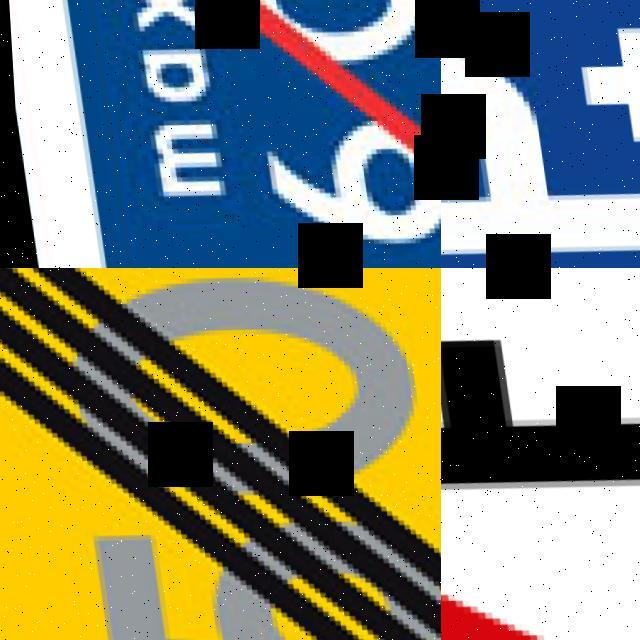124: (0, 268, 441, 640)
60: (441, 0, 640, 268)
Side road junction: (441, 268, 640, 640)
end of the speed limit: (0, 0, 441, 268)
